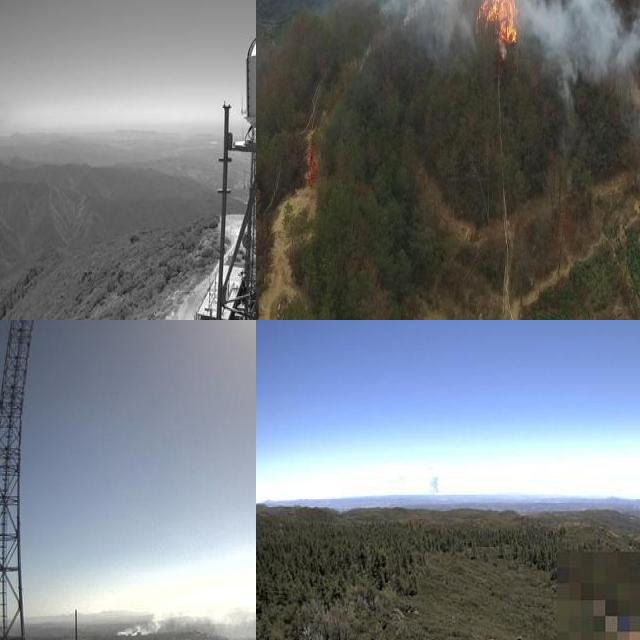fire: (452, 0, 550, 68)
smoke: (256, 0, 640, 126), (114, 569, 256, 640), (424, 472, 445, 499)
